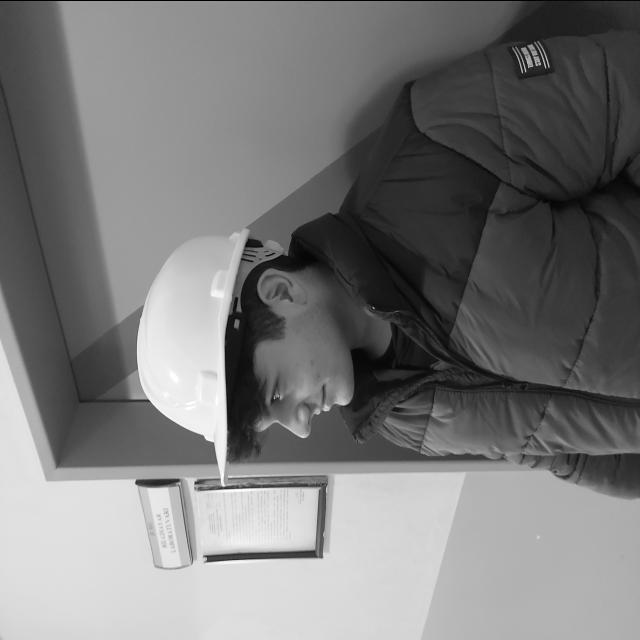safety_helmet: (142, 227, 288, 467)
